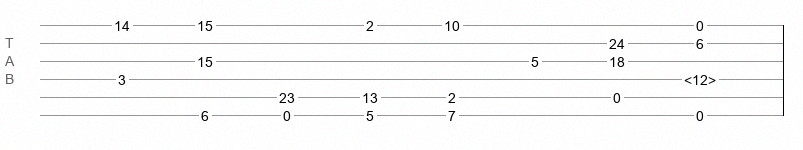0: (283, 108, 291, 118), (613, 90, 621, 100), (696, 108, 704, 118), (696, 18, 704, 28)
10: (444, 18, 460, 28)
13: (362, 90, 378, 100)
14: (114, 18, 130, 28)
15: (197, 18, 213, 28), (197, 54, 213, 64)
18: (609, 54, 625, 64)
2: (366, 18, 374, 28), (448, 90, 456, 100)
23: (279, 90, 295, 100)
24: (609, 36, 625, 46)
3: (118, 72, 126, 82)
5: (366, 108, 374, 118), (531, 54, 539, 64)
6: (201, 108, 209, 118), (696, 36, 704, 46)
7: (448, 108, 456, 118)
harmonic: (684, 72, 716, 82)
